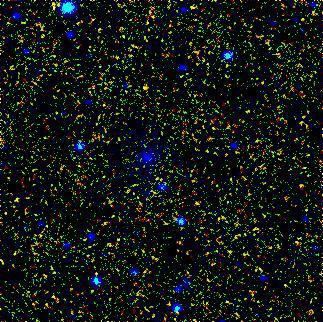star: (132, 75, 162, 105)
